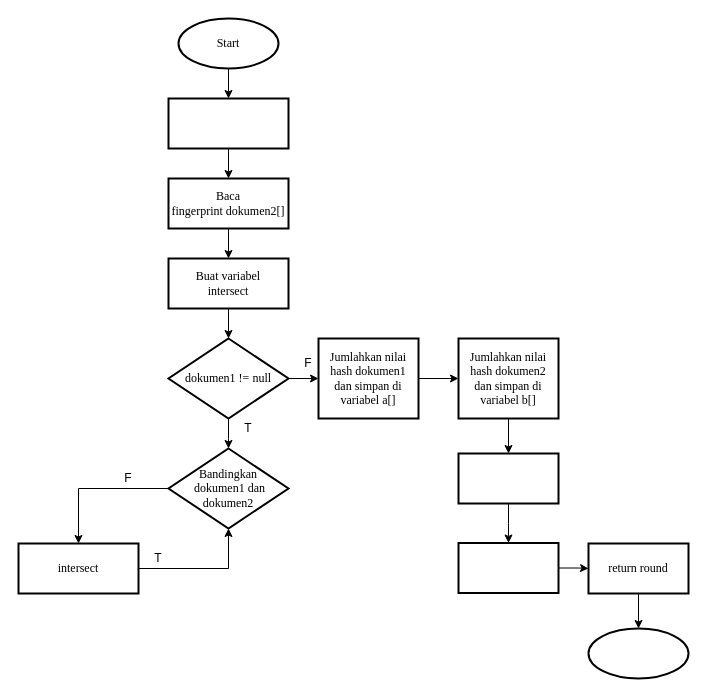
This 706x696 diagram has some shape labels left out. The box of each missing label's shape, as (x1, y1, x2, y2) in pixels:
Baca fingerprint dokumen1[]: (167, 97, 289, 149)
End: (587, 627, 689, 679)
hasil = intersect/union *100%: (457, 542, 559, 594)
hitung union = a+b-intersect: (457, 452, 559, 504)
